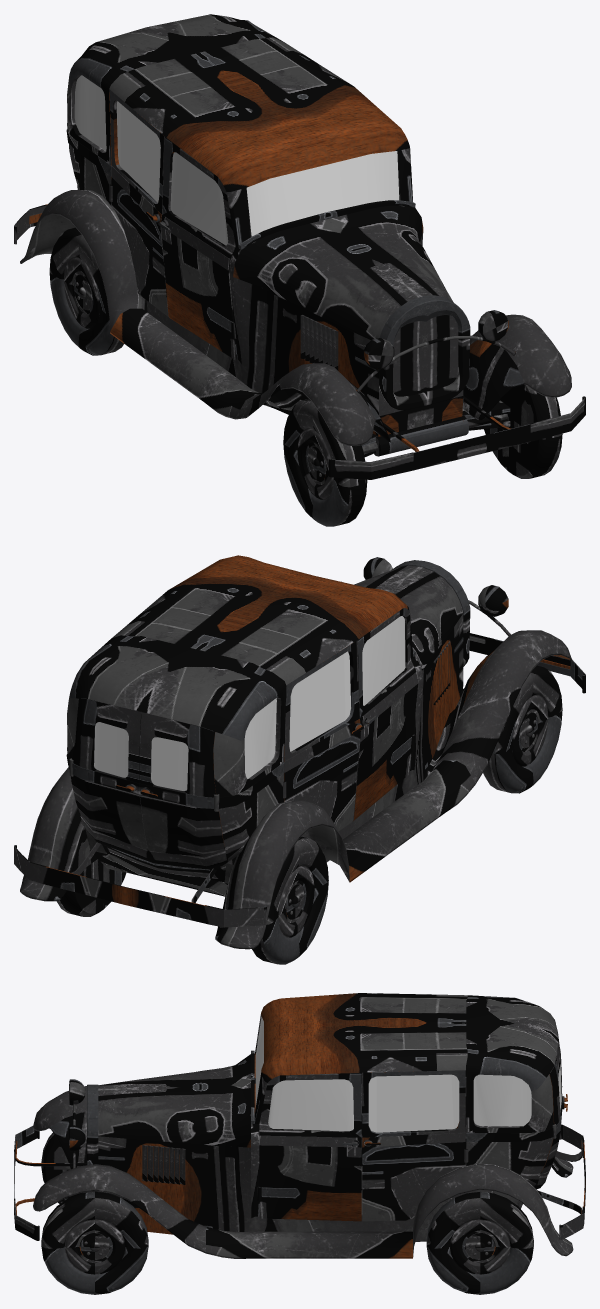
The model's file is Ford model B sedan.fbx.
The picture shows the model from 3 angles, top to bottom: view 1: azimuth 30°, elevation 25°; view 2: azimuth 150°, elevation 25°; view 3: azimuth 270°, elevation 25°; orthographic projection. The views are drawn at different scales.
Parts seen in each view (by area): view 1: Plane, Cylinder, Plane.011, Plane.019, Plane.010, Plane.025, Plane.027, Cylinder.001, Plane.013; view 2: Plane, Cylinder, Plane.012, Plane.011, Plane.006, Plane.010, Plane.027, Plane.025, Plane.013, Plane.022, Plane.009; view 3: Plane, Cylinder, Plane.002, Plane.004, Plane.017, Plane.016, Plane.013, Plane.006, Plane.019.
Boxes of the visible parts, bbox=[...] form: Plane: bbox=[14, 14, 585, 479]; Cylinder: bbox=[49, 227, 562, 526]; Plane.011: bbox=[161, 137, 237, 360]; Plane.019: bbox=[246, 151, 399, 236]; Plane.010: bbox=[109, 89, 169, 317]; Plane.025: bbox=[170, 152, 228, 245]; Plane.027: bbox=[116, 101, 160, 202]; Cylinder.001: bbox=[362, 414, 507, 456]; Plane.013: bbox=[74, 75, 106, 150]; Plane: bbox=[14, 555, 585, 949]; Cylinder: bbox=[57, 665, 562, 964]; Plane.012: bbox=[139, 712, 224, 856]; Plane.011: bbox=[352, 608, 418, 821]; Plane.006: bbox=[71, 698, 147, 850]; Plane.010: bbox=[284, 641, 360, 830]; Plane.027: bbox=[289, 651, 350, 751]; Plane.025: bbox=[362, 616, 405, 705]; Plane.013: bbox=[244, 698, 276, 778]; Plane.022: bbox=[151, 737, 188, 790]; Plane.009: bbox=[94, 722, 128, 777]; Plane: bbox=[14, 993, 585, 1258]; Cylinder: bbox=[41, 1132, 533, 1294]; Plane.002: bbox=[259, 1072, 361, 1221]; Plane.004: bbox=[362, 1070, 465, 1221]; Plane.017: bbox=[368, 1074, 459, 1132]; Plane.016: bbox=[268, 1079, 353, 1131]; Plane.013: bbox=[473, 1074, 531, 1126]; Plane.006: bbox=[540, 1040, 562, 1174]; Plane.019: bbox=[255, 1017, 263, 1106].
Bounding box in the file's own units: 184 × 191 × 432.
